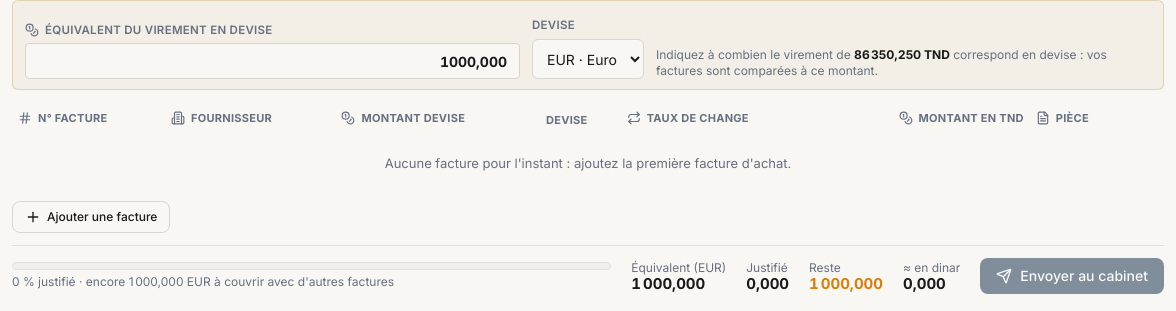
it: SwiftFacturesEditor › signale un dépassement de l'équivalent en devise
Click the button "Ajouter une facture" at {"x": 91, "y": 217}, box [12,201,170,233]
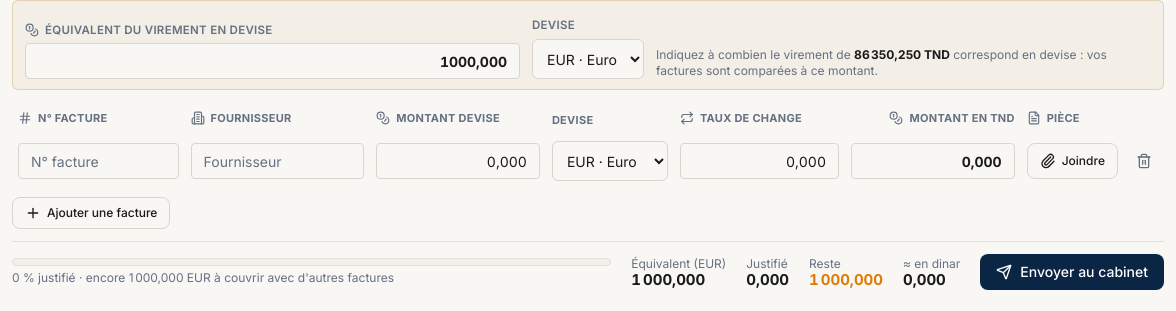
Replace the text in the field named "Montant devise de la facture 1" with "1200" at {"x": 458, "y": 161}, box [376,143,540,179]
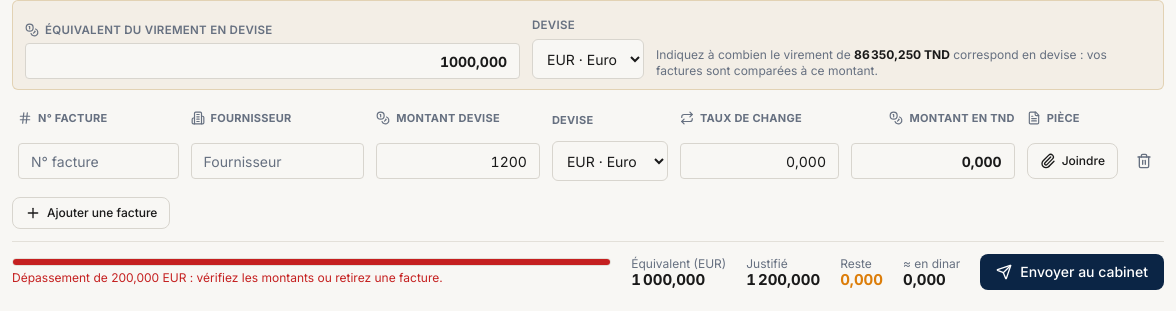
expect the text "Dépassement de 200,000 EUR" is shown: met, box [12,270,443,285]
